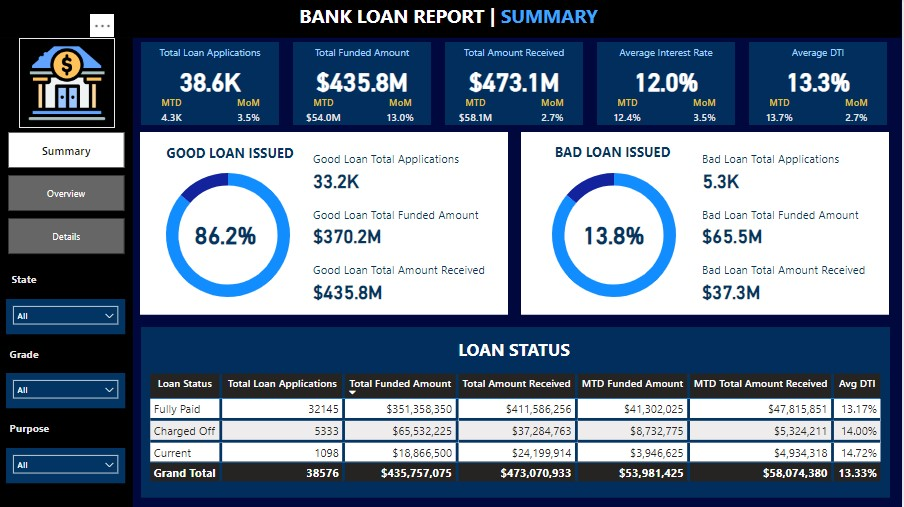

The dashboard page shown, as its layout file describes it:
{"tool":"powerbi","page":{"name":"Summary","canvas":[1280,720],"ordinal":0},"visuals":[{"type":"shape","box":[202.7,60.9,195.6,117.6],"z":0,"group":"g2"},{"type":"shape","box":[418.1,60.9,195.6,117.6],"z":0,"group":"g1"},{"type":"shape","box":[633.5,60.9,195.6,117.6],"z":0,"group":"g3"},{"type":"shape","box":[849,60.9,195.6,117.6],"z":0,"group":"g4"},{"type":"shape","box":[1064.4,60.9,195.6,117.6],"z":0,"group":"g5"},{"type":"shape","box":[201.3,188.5,521.6,259.4],"z":0},{"type":"shape","box":[0,55.3,191.3,664.7],"z":1000},{"type":"card","fields":{"Values":["bank_loan_data.Total Loan Applications"]},"box":[225.4,92.1,150.2,45.4],"z":1000,"group":"g2"},{"type":"card","fields":{"Values":["bank_loan_data.Total Funded Amount"]},"box":[440.8,92.1,150.2,45.4],"z":1000,"group":"g1"},{"type":"card","fields":{"Values":["bank_loan_data.Total Amount Received"]},"box":[656.2,92.1,150.2,45.4],"z":1000,"group":"g3"},{"type":"card","fields":{"Values":["bank_loan_data.Avg Interest Rate"]},"box":[871.7,92.1,150.2,45.4],"z":1000,"group":"g4"},{"type":"card","fields":{"Values":["bank_loan_data.Avg DTI"]},"box":[1087.1,92.1,150.2,45.4],"z":1000,"group":"g5"},{"type":"shape","box":[0,0,1279.8,55],"z":2000},{"type":"textbox","box":[214,60.9,172.9,31.2],"z":2000,"group":"g2"},{"type":"textbox","box":[429.4,60.9,172.9,31.2],"z":2000,"group":"g1"},{"type":"textbox","box":[644.8,60.9,172.9,31.2],"z":2000,"group":"g3"},{"type":"textbox","box":[860.3,60.9,172.9,31.2],"z":2000,"group":"g4"},{"type":"textbox","box":[1075.7,60.9,172.9,31.2],"z":2000,"group":"g5"},{"type":"card","title":"MTD","fields":{"Values":["bank_loan_data.MTD Loan Applications"]},"box":[214,137.4,63.8,41.1],"z":3000,"group":"g2"},{"type":"card","title":"MTD","fields":{"Values":["bank_loan_data.MTD Funded Amount"]},"box":[429.4,137.4,63.8,41.1],"z":3000,"group":"g1"},{"type":"card","title":"MTD","fields":{"Values":["bank_loan_data.MTD Total Amount Received"]},"box":[644.8,137.4,63.8,41.1],"z":3000,"group":"g3"},{"type":"card","title":"MTD","fields":{"Values":["bank_loan_data.MTD Avg int Rate"]},"box":[860.3,137.4,63.8,41.1],"z":3000,"group":"g4"},{"type":"card","title":"MTD","fields":{"Values":["bank_loan_data.MTD Avg DTI"]},"box":[1075.7,137.4,63.8,41.1],"z":3000,"group":"g5"},{"type":"textbox","box":[14.2,381.3,58.1,31.2],"z":3000},{"type":"card","title":"MoM","fields":{"Values":["bank_loan_data.MoM Loan Applications"]},"box":[323.2,137.4,63.8,41.1],"z":4000,"group":"g2"},{"type":"card","title":"MoM","fields":{"Values":["bank_loan_data.MoM Funded Amount"]},"box":[538.6,137.4,63.8,41.1],"z":4000,"group":"g1"},{"type":"card","title":"MoM","fields":{"Values":["bank_loan_data.MoM Total Amount Received"]},"box":[754,137.4,63.8,41.1],"z":4000,"group":"g3"},{"type":"card","title":"MoM","fields":{"Values":["bank_loan_data.MoM Avg int Rate"]},"box":[969.5,137.4,63.8,41.1],"z":4000,"group":"g4"},{"type":"card","title":"MoM","fields":{"Values":["bank_loan_data.MoM Avg DTI"]},"box":[1184.9,137.4,63.8,41.1],"z":4000,"group":"g5"},{"type":"card","fields":{"Values":["bank_loan_data.Good Loan%"]},"box":[267.9,311.8,109.1,42.5],"z":4000},{"type":"textbox","box":[413.9,0,449.3,46.8],"z":5000},{"type":"group","id":"g1","title":"Group 1","box":[418.1,60.9,195.6,117.6],"z":6000},{"type":"group","id":"g2","title":"Group 1","box":[202.7,60.9,195.6,117.6],"z":7000},{"type":"group","id":"g3","title":"Group 1","box":[633.5,60.9,195.6,117.6],"z":8000},{"type":"group","id":"g4","title":"Group 1","box":[849,60.9,195.6,117.6],"z":9000},{"type":"group","id":"g5","title":"Group 1","box":[1064.4,60.9,195.6,117.6],"z":10000},{"type":"shape","box":[741.3,188.5,521.6,259.4],"z":11000},{"type":"donutChart","fields":{"Category":["bank_loan_data.Good Loan vs Bad Loan"],"Y":["bank_loan_data.Total Loan Applications"]},"box":[201.3,219.7,249.4,229.6],"z":12000},{"type":"textbox","box":[214,199.8,229.6,38.3],"z":13000},{"type":"cardVisual","fields":{"Data":["bank_loan_data.Good Loan Total Applications","bank_loan_data.Good Loan Total Funded Amount","bank_loan_data.Good Loan Total Amount Received"]},"box":[429.4,198.4,279.2,239.5],"z":14000},{"type":"donutChart","fields":{"Category":["bank_loan_data.Good Loan vs Bad Loan"],"Y":["bank_loan_data.Total Loan Applications"]},"box":[748.3,219.7,249.4,229.6],"z":15000},{"type":"textbox","box":[772.4,198.4,197,38.3],"z":16000},{"type":"card","fields":{"Values":["bank_loan_data.Bad Loan%"]},"box":[817.8,311.8,109.1,42.5],"z":17000},{"type":"cardVisual","fields":{"Data":["bank_loan_data.Bad Loan Total Applications","bank_loan_data.Bad Loan Total Funded Amount","bank_loan_data.Bad Loan Total Amount Received"]},"box":[980.8,198.4,279.2,239.5],"z":18000},{"type":"shape","box":[202.7,464.9,1061.6,242.4],"z":19000},{"type":"tableEx","fields":{"Values":["bank_loan_data.loan_status","bank_loan_data.Total Loan Applications","bank_loan_data.Total Funded Amount","bank_loan_data.Total Amount Received","bank_loan_data.MTD Funded Amount","bank_loan_data.MTD Total Amount Received","bank_loan_data.Avg DTI"]},"box":[209.8,525.8,1048.8,181.4],"z":20000},{"type":"textbox","box":[636.4,474.8,189.9,43.9],"z":21000},{"type":"slicer","fields":{"Values":["bank_loan_data.address_state"]},"box":[11.3,424.9,168.7,49.6],"z":22000},{"type":"slicer","fields":{"Values":["bank_loan_data.grade"]},"box":[11.3,530.6,168.7,49.6],"z":23000},{"type":"slicer","fields":{"Values":["bank_loan_data.purpose"]},"box":[11.3,636.4,168.7,49.6],"z":24000},{"type":"textbox","box":[11.3,487.6,60.9,31.2],"z":25000},{"type":"textbox","box":[11.3,592.7,75.1,31.2],"z":26000},{"type":"pageNavigator","box":[14.2,188.5,165.8,175.7],"z":27000},{"type":"image","box":[29.8,55.3,136.1,127.6],"z":28000}]}

Visuals, with their boxes in screenshot pixels (x1, y1, x2, y2), scaled from the page's 1280x720 canvas onto the 904x507 screenshot:
shape: bbox(143, 43, 281, 126)
shape: bbox(295, 43, 433, 126)
shape: bbox(447, 43, 586, 126)
shape: bbox(600, 43, 738, 126)
shape: bbox(752, 43, 890, 126)
shape: bbox(142, 133, 511, 315)
shape: bbox(0, 39, 135, 506)
card - bank_loan_data.Total Loan Applications: bbox(159, 65, 265, 97)
card - bank_loan_data.Total Funded Amount: bbox(311, 65, 417, 97)
card - bank_loan_data.Total Amount Received: bbox(463, 65, 570, 97)
card - bank_loan_data.Avg Interest Rate: bbox(616, 65, 722, 97)
card - bank_loan_data.Avg DTI: bbox(768, 65, 874, 97)
shape: bbox(0, 0, 903, 39)
textbox: bbox(151, 43, 273, 65)
textbox: bbox(303, 43, 425, 65)
textbox: bbox(455, 43, 578, 65)
textbox: bbox(608, 43, 730, 65)
textbox: bbox(760, 43, 882, 65)
"MTD" card: bbox(151, 97, 196, 126)
"MTD" card: bbox(303, 97, 348, 126)
"MTD" card: bbox(455, 97, 500, 126)
"MTD" card: bbox(608, 97, 653, 126)
"MTD" card: bbox(760, 97, 805, 126)
textbox: bbox(10, 268, 51, 290)
"MoM" card: bbox(228, 97, 273, 126)
"MoM" card: bbox(380, 97, 425, 126)
"MoM" card: bbox(533, 97, 578, 126)
"MoM" card: bbox(685, 97, 730, 126)
"MoM" card: bbox(837, 97, 882, 126)
card - bank_loan_data.Good Loan%: bbox(189, 220, 266, 249)
textbox: bbox(292, 0, 610, 33)
"Group 1" group: bbox(295, 43, 433, 126)
"Group 1" group: bbox(143, 43, 281, 126)
"Group 1" group: bbox(447, 43, 586, 126)
"Group 1" group: bbox(600, 43, 738, 126)
"Group 1" group: bbox(752, 43, 890, 126)
shape: bbox(524, 133, 892, 315)
donutChart - bank_loan_data.Good Loan vs Bad Loan x bank_loan_data.Total Loan Applications: bbox(142, 155, 318, 316)
textbox: bbox(151, 141, 313, 168)
cardVisual - bank_loan_data.Good Loan Total Applications x bank_loan_data.Good Loan Total Funded Amount: bbox(303, 140, 500, 308)
donutChart - bank_loan_data.Good Loan vs Bad Loan x bank_loan_data.Total Loan Applications: bbox(528, 155, 705, 316)
textbox: bbox(546, 140, 685, 167)
card - bank_loan_data.Bad Loan%: bbox(578, 220, 655, 249)
cardVisual - bank_loan_data.Bad Loan Total Applications x bank_loan_data.Bad Loan Total Funded Amount: bbox(693, 140, 890, 308)
shape: bbox(143, 327, 893, 498)
tableEx - bank_loan_data.loan_status x bank_loan_data.Total Loan Applications: bbox(148, 370, 889, 498)
textbox: bbox(449, 334, 584, 365)
slicer - bank_loan_data.address_state: bbox(8, 299, 127, 334)
slicer - bank_loan_data.grade: bbox(8, 374, 127, 409)
slicer - bank_loan_data.purpose: bbox(8, 448, 127, 483)
textbox: bbox(8, 343, 51, 365)
textbox: bbox(8, 417, 61, 439)
pageNavigator: bbox(10, 133, 127, 256)
image: bbox(21, 39, 117, 129)
